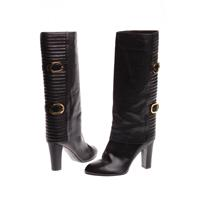shoe: (84, 30, 160, 176), (40, 31, 97, 170)
